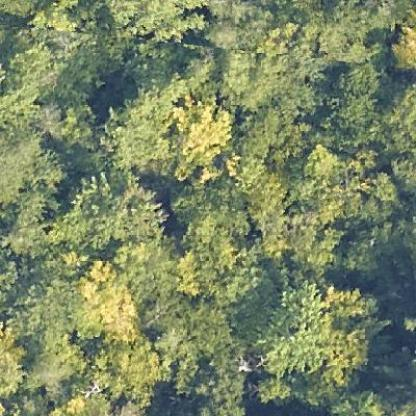tree-top: (252, 273, 376, 389), (51, 166, 171, 254), (170, 223, 254, 302), (66, 262, 140, 342), (316, 60, 383, 148), (100, 92, 176, 168), (92, 332, 164, 400), (169, 100, 232, 174), (0, 320, 30, 396), (382, 20, 415, 74)
